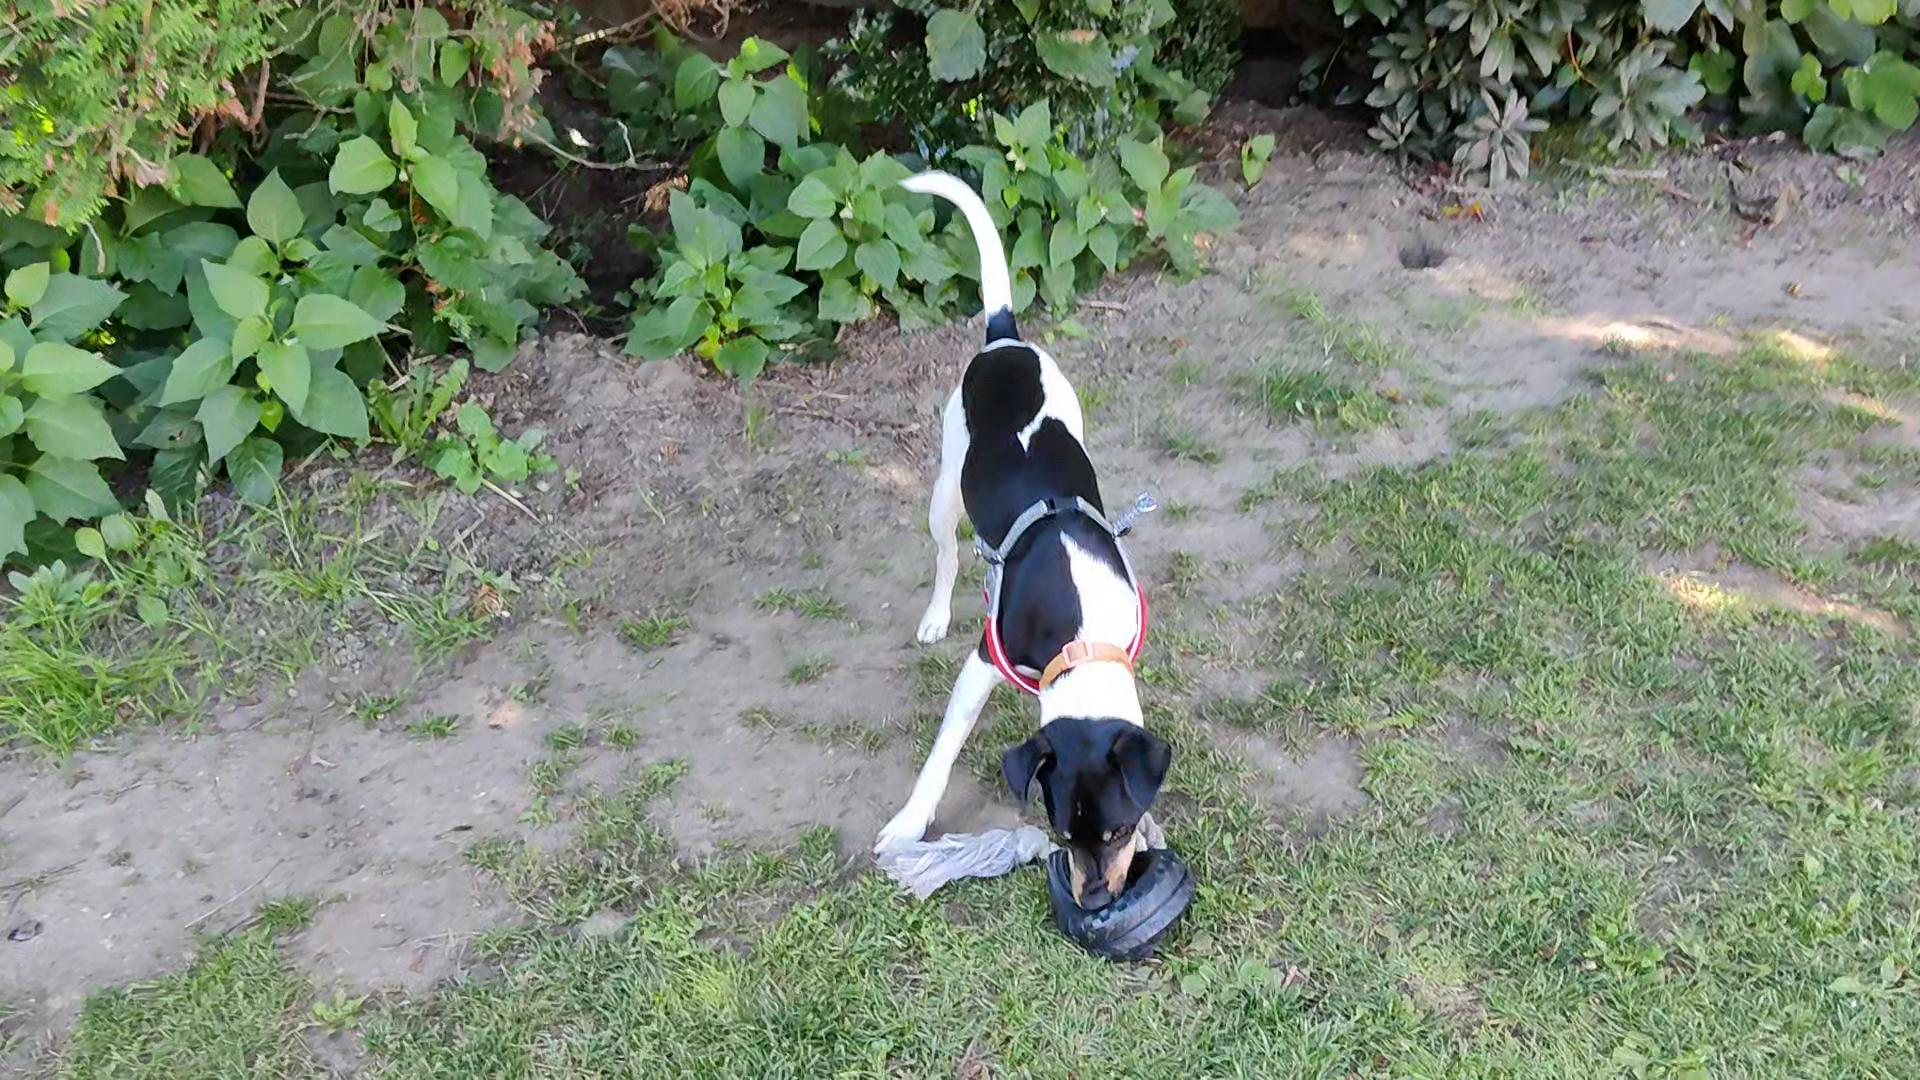Dog: (852, 146, 1193, 887)
